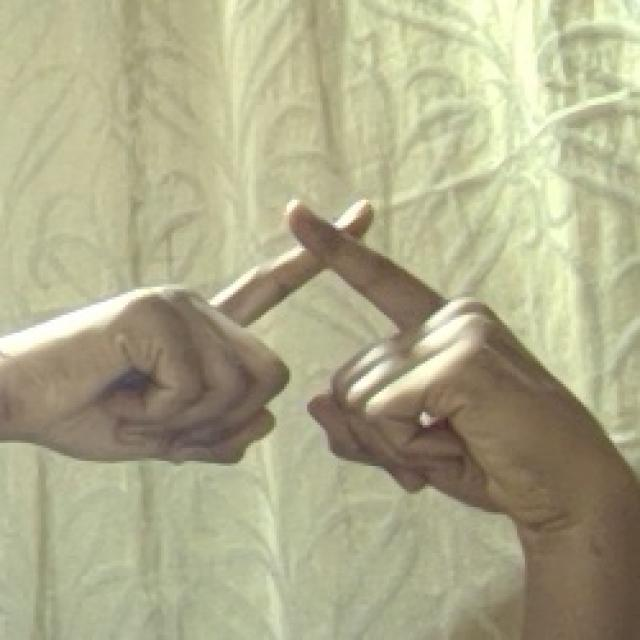Alphabet-X: (21, 197, 566, 516), (406, 620, 407, 620)
